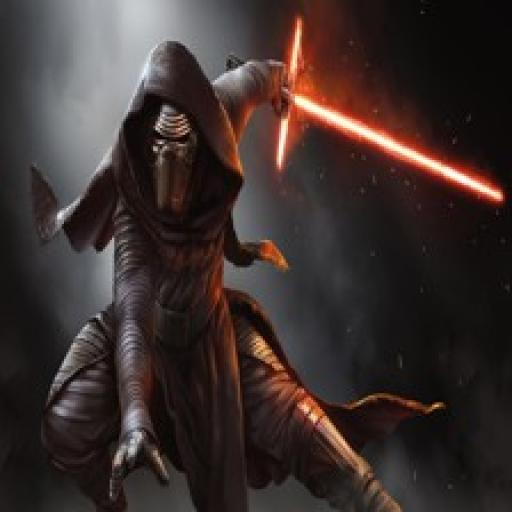human: (44, 37, 406, 512)
sith saber: (216, 14, 512, 216)
